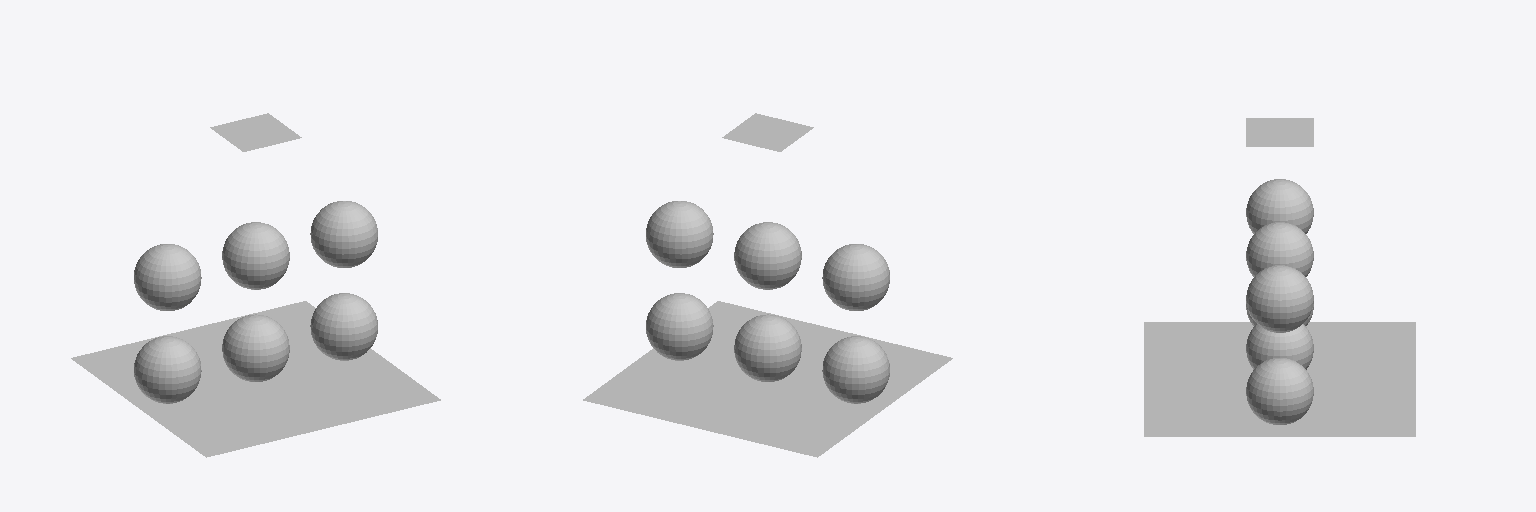
File: MaterialTest.obj
3 views of the same model, side by side, from view 1: azimuth 30°, elevation 25°; view 2: azimuth 150°, elevation 25°; view 3: azimuth 270°, elevation 25° (orthographic).
Parts seen in each view (by area): view 1: Plane, Sphere.003, Sphere.002, Sphere.001, Sphere.005, Sphere.004, Sphere.006, Plane.001; view 2: Plane, Sphere.003, Sphere.002, Sphere.001, Sphere.005, Sphere.004, Sphere.006, Plane.001; view 3: Plane, Sphere.001, Sphere.006, Sphere.005, Sphere.004, Sphere.002, Plane.001.
Part boxes in pixels (bbox=[...]): Plane: bbox=[71, 301, 440, 457]; Sphere.003: bbox=[134, 336, 201, 403]; Sphere.002: bbox=[222, 314, 289, 381]; Sphere.001: bbox=[310, 293, 377, 360]; Sphere.005: bbox=[222, 222, 289, 289]; Sphere.004: bbox=[134, 244, 201, 310]; Sphere.006: bbox=[310, 201, 377, 267]; Plane.001: bbox=[210, 113, 301, 151]; Plane: bbox=[583, 301, 952, 457]; Sphere.003: bbox=[822, 336, 889, 403]; Sphere.002: bbox=[734, 314, 801, 381]; Sphere.001: bbox=[646, 293, 713, 360]; Sphere.005: bbox=[734, 222, 801, 289]; Sphere.004: bbox=[822, 244, 889, 310]; Sphere.006: bbox=[646, 201, 713, 267]; Plane.001: bbox=[722, 113, 813, 151]; Plane: bbox=[1144, 322, 1415, 436]; Sphere.001: bbox=[1246, 358, 1313, 424]; Sphere.006: bbox=[1246, 265, 1313, 332]; Sphere.005: bbox=[1246, 222, 1313, 276]; Sphere.004: bbox=[1246, 179, 1313, 233]; Sphere.002: bbox=[1246, 324, 1313, 369]; Plane.001: bbox=[1246, 118, 1313, 146].
Bounding box in the file's own units: 2 × 2 × 2.